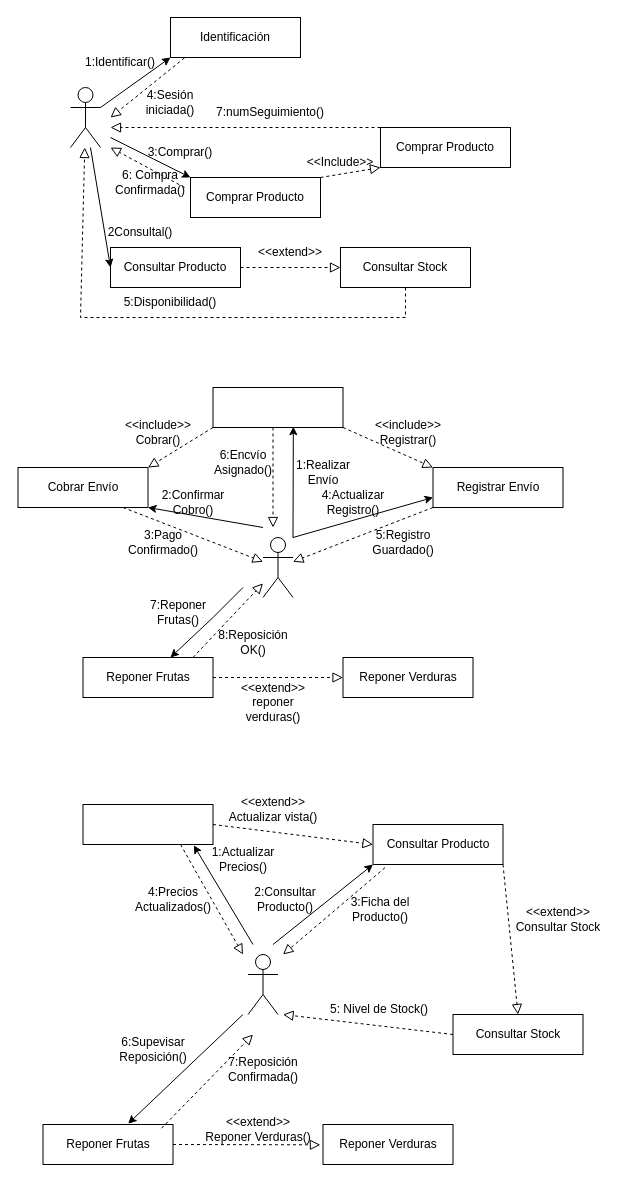
Some shapes in this 620 by 1182 pixel diagram are drawn without their labels. Each missing label, with the centre of its shape:
Actualizar Precios: the point at 147,824
Administrador: the point at 262,984
Cliente: the point at 85,117
Realizar Envío: the point at 277,407
Transportista: the point at 277,567
